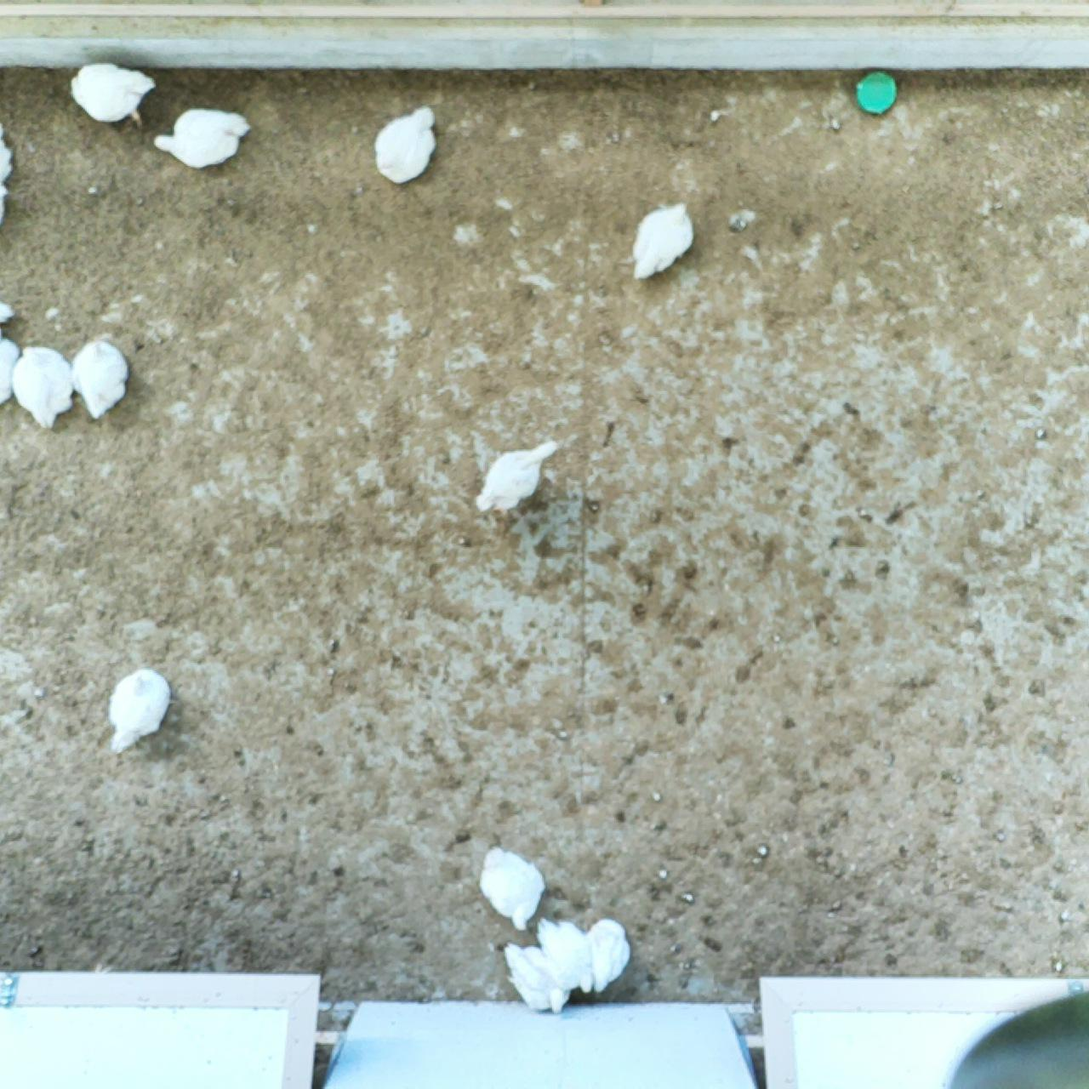chicken: (472, 434, 565, 521), (64, 56, 159, 136), (148, 104, 253, 170), (617, 197, 698, 282), (104, 663, 175, 759), (476, 842, 546, 936), (8, 342, 76, 435), (371, 103, 446, 186), (70, 335, 138, 421), (533, 913, 595, 997), (500, 938, 558, 1018), (589, 915, 636, 997), (0, 331, 21, 407)
